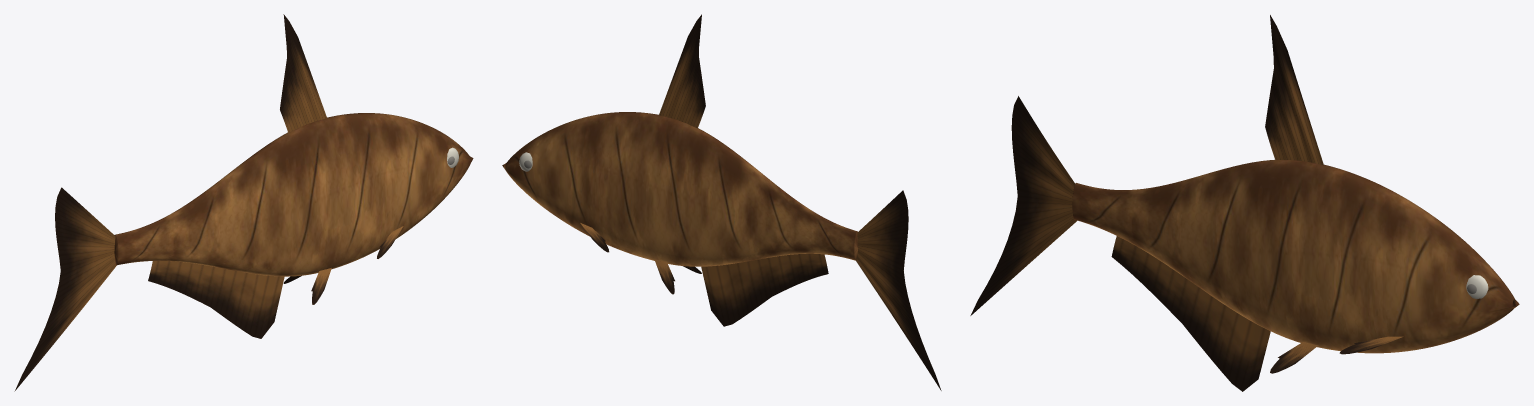
Rendered from fish_bream_cooked.gltf.
3 renders of one model, left to right at view 1: azimuth 30°, elevation 25°; view 2: azimuth 150°, elevation 25°; view 3: azimuth 330°, elevation 25°, orthographic. The views are drawn at different scales.
Parts seen in each view (by area): view 1: fish_bream_cooked; view 2: fish_bream_cooked; view 3: fish_bream_cooked.
Part boxes in pixels (box(x1,y1,x2,y2)): fish_bream_cooked: box(14, 14, 473, 391); fish_bream_cooked: box(502, 14, 941, 390); fish_bream_cooked: box(970, 15, 1519, 391).
Bounding box in the file's own units: 0.4364 × 0.2933 × 0.064.
Materials: 6 (4 with a texture image).
